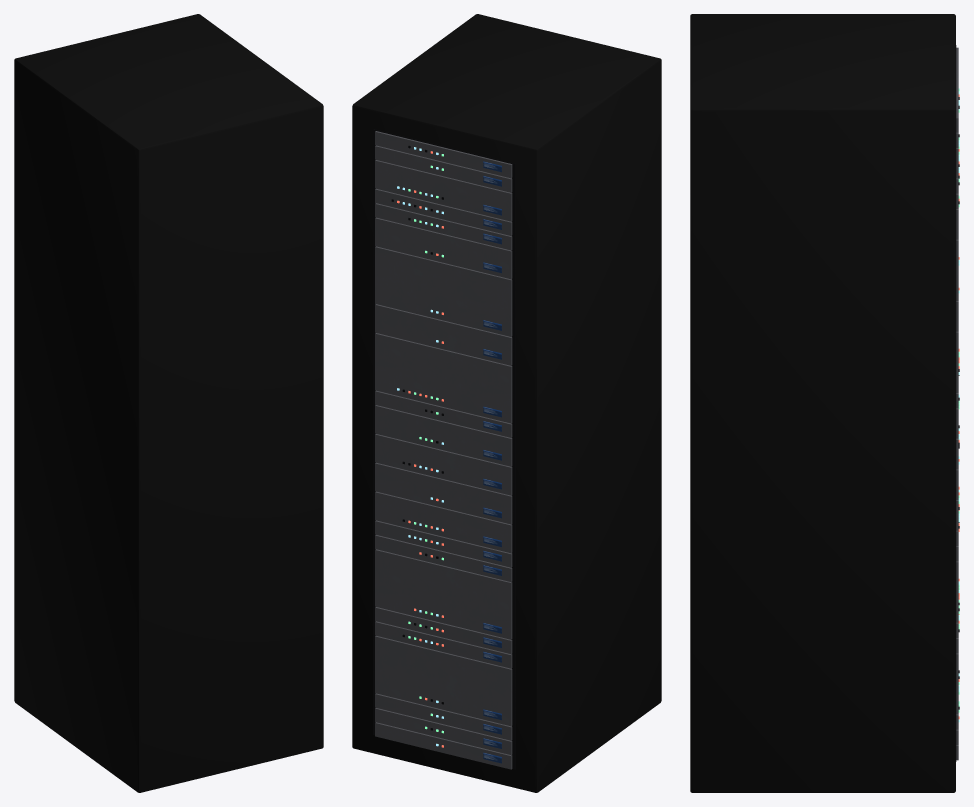
Rendered from rack_42u.gltf.
3 renders of one model, left to right at view 1: azimuth 30°, elevation 25°; view 2: azimuth 150°, elevation 25°; view 3: azimuth 270°, elevation 25°, orthographic. The views are drawn at different scales.
Visible parts, largest first — view 1: rack_42u; view 2: rack_42u; view 3: rack_42u.
Boxes of the visible parts, bbox=[...] form: rack_42u: bbox=[14, 14, 323, 792]; rack_42u: bbox=[352, 14, 661, 792]; rack_42u: bbox=[690, 14, 959, 792].
Size of the model in its own units: 0.6 by 1.99 by 0.71.
Materials: 8 (5 with a texture image).
